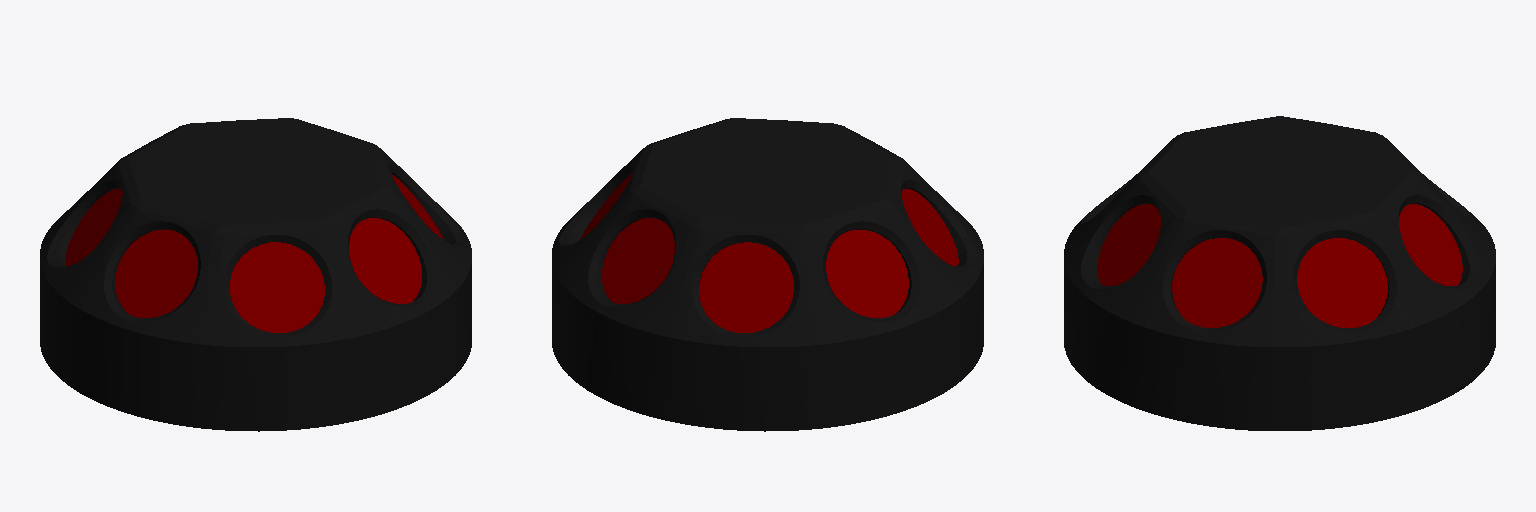
The model's file is dvl.obj.
The picture shows the model from 3 angles: view 1: azimuth 30°, elevation 25°; view 2: azimuth 150°, elevation 25°; view 3: azimuth 270°, elevation 25°; orthographic projection.
Visible parts, largest first — view 1: dvl; view 2: dvl; view 3: dvl.
Boxes of the visible parts, box(x1,y1,x2,y2) form: dvl: box(40, 118, 471, 431); dvl: box(552, 118, 983, 431); dvl: box(1064, 116, 1495, 430).
Size of the model in its own units: 0.14 by 0.06 by 0.14.